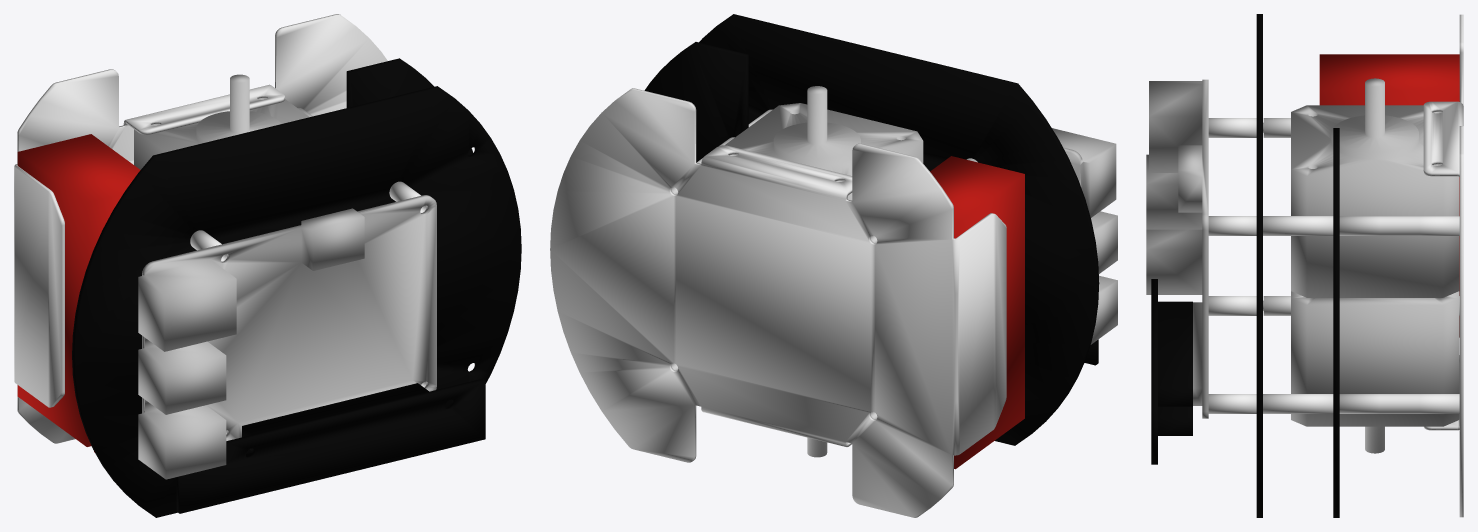
Rendered from raspi_body.obj.
3 renders of one model, left to right at view 1: azimuth 30°, elevation 25°; view 2: azimuth 150°, elevation 25°; view 3: azimuth 270°, elevation 25°, orthographic.
Visible parts, largest first — view 1: Cube; view 2: Cube; view 3: Cube.
Part boxes in pixels (bbox=[...]): Cube: bbox=[14, 14, 521, 517]; Cube: bbox=[550, 14, 1117, 517]; Cube: bbox=[1146, 14, 1463, 517].
Size of the model in its own units: 0.13 by 0.101 by 0.0793.
